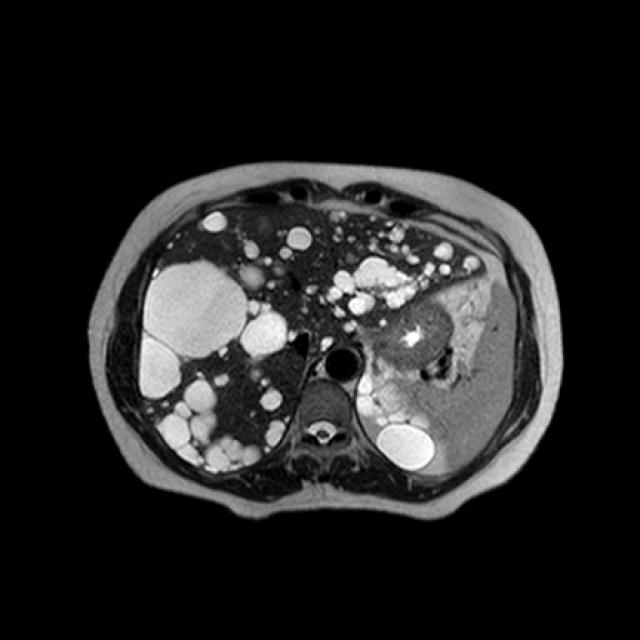sol: (356, 379, 437, 471)
